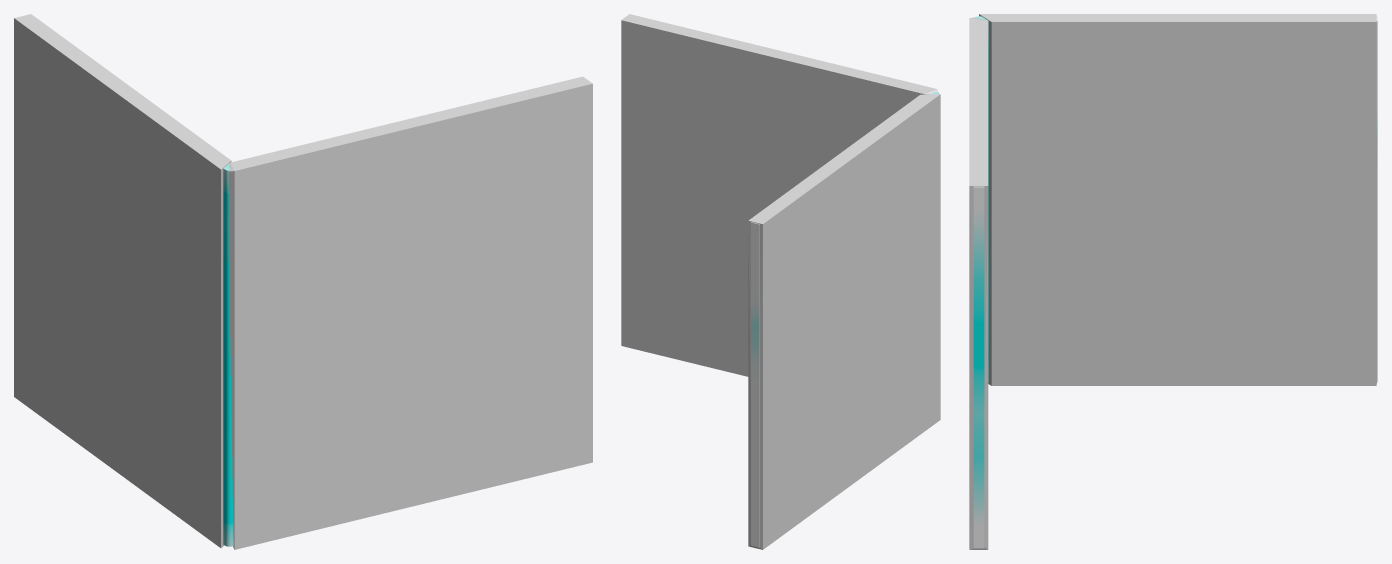
3 renders of one model, left to right at view 1: azimuth 30°, elevation 25°; view 2: azimuth 150°, elevation 25°; view 3: azimuth 270°, elevation 25°, orthographic. The views are drawn at different scales.
Visible parts, largest first — view 1: SM_Wall_Corner_ConvexHulls, SM_Wall_Corner; view 2: SM_Wall_Corner_ConvexHulls, SM_Wall_Corner; view 3: SM_Wall_Corner_ConvexHulls, SM_Wall_Corner.
Boxes of the visible parts, x1=… form: SM_Wall_Corner_ConvexHulls: x1=14, y1=14, x2=592, y2=549; SM_Wall_Corner: x1=223, y1=163, x2=233, y2=546; SM_Wall_Corner_ConvexHulls: x1=621, y1=14, x2=940, y2=549; SM_Wall_Corner: x1=751, y1=91, x2=938, y2=547; SM_Wall_Corner_ConvexHulls: x1=969, y1=14, x2=1376, y2=549; SM_Wall_Corner: x1=973, y1=16, x2=1377, y2=548.
Size of the model in its own units: 768 by 768 by 756.
